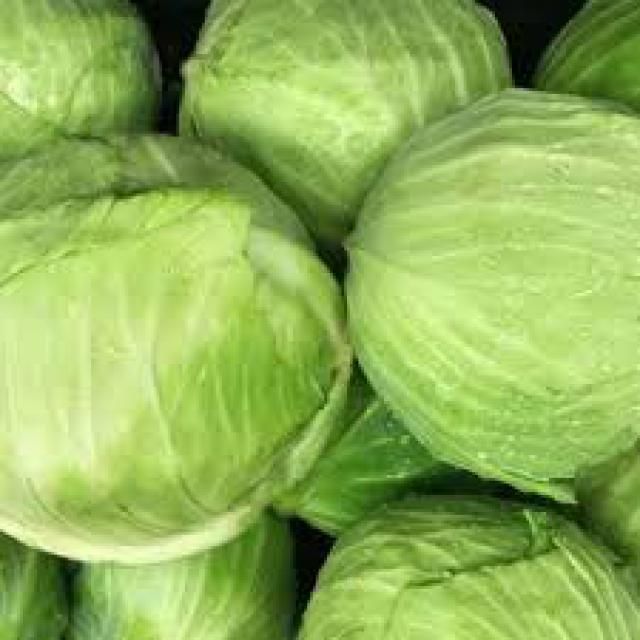Cabbage: (0, 126, 352, 567), (344, 84, 637, 489), (176, 0, 512, 266), (298, 484, 640, 640), (0, 0, 163, 140)
